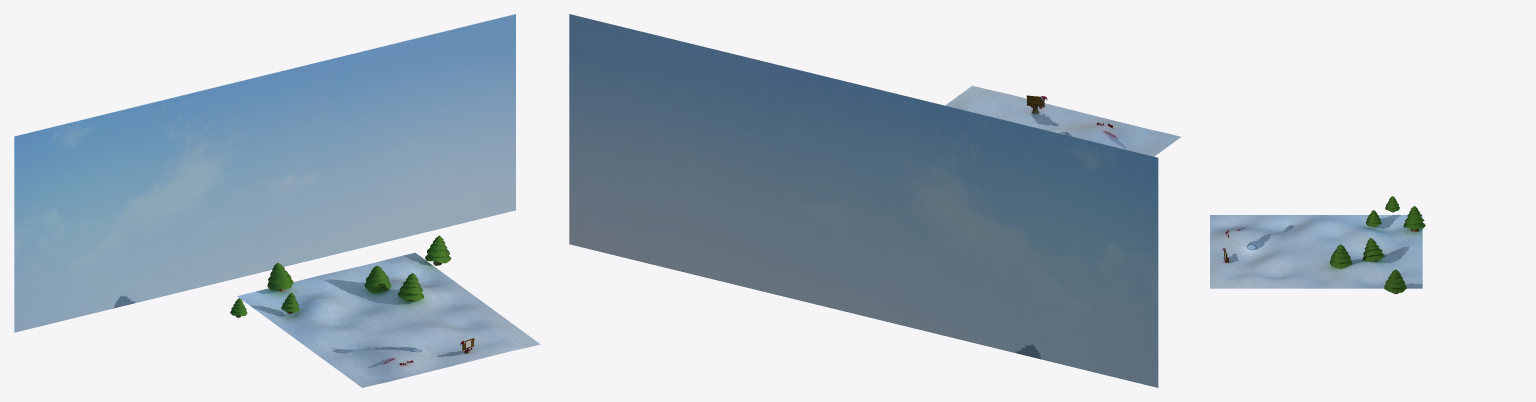
3 views of the same model, side by side, from view 1: azimuth 30°, elevation 25°; view 2: azimuth 150°, elevation 25°; view 3: azimuth 270°, elevation 25° (orthographic). The views are drawn at different scales.
Parts seen in each view (by area): view 1: sky, ground, tree04, tree03, tree01, tree02; view 2: sky, ground; view 3: ground, tree01, tree02, tree04, tree03.
Boxes of the visible parts, x1,y1,x2,y2 form: sky: [14, 14, 515, 332]; ground: [237, 252, 540, 387]; tree04: [267, 262, 293, 291]; tree03: [364, 265, 390, 293]; tree01: [425, 235, 451, 265]; tree02: [398, 273, 423, 301]; sky: [569, 14, 1158, 387]; ground: [945, 85, 1180, 156]; ground: [1210, 215, 1422, 288]; tree01: [1384, 269, 1406, 293]; tree02: [1329, 244, 1351, 268]; tree04: [1403, 206, 1425, 231]; tree03: [1362, 238, 1384, 261].
Size of the model in its own units: 2276 by 851 by 1445.
